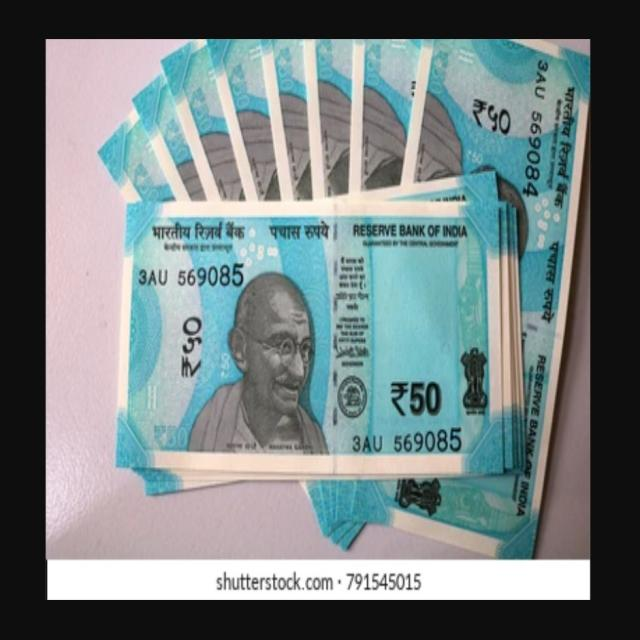50IndianRupees: (122, 200, 506, 476)
